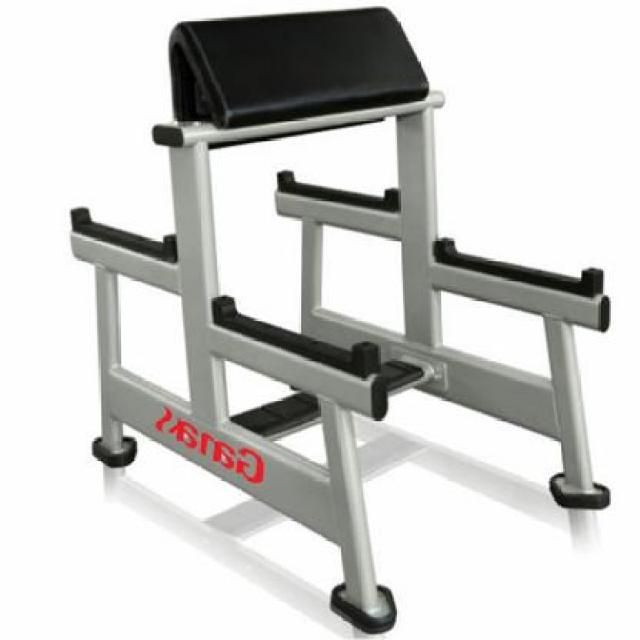arm curl machine: (71, 8, 611, 632)
